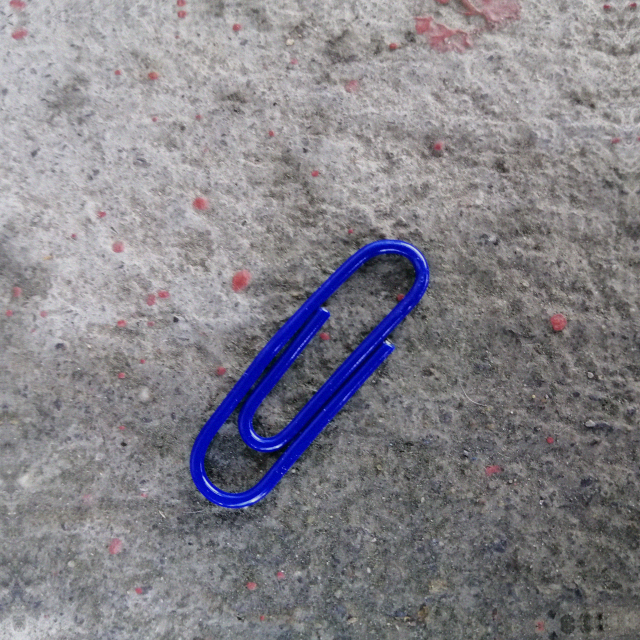pin: (180, 235, 438, 520)
